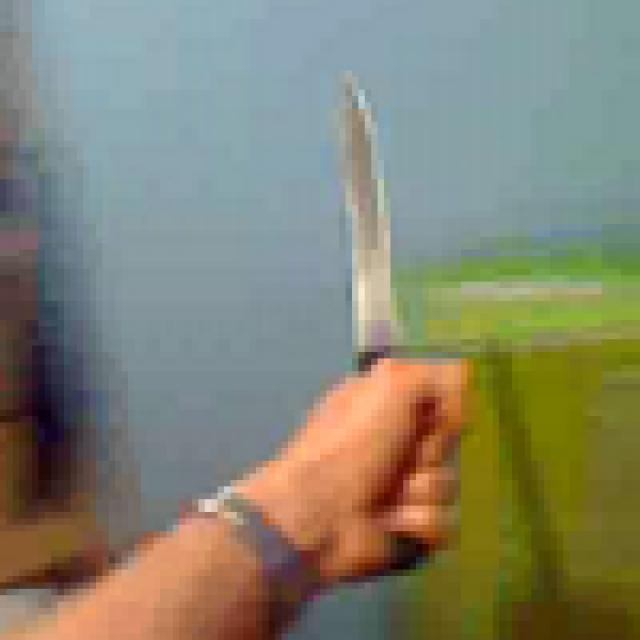knife: (282, 51, 500, 563)
